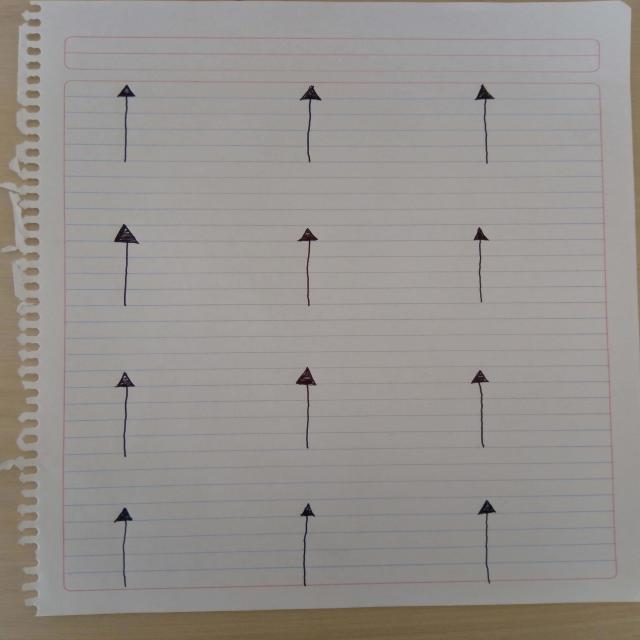arrow_line_up: (467, 501, 514, 585), (282, 367, 323, 461), (106, 372, 144, 464), (106, 510, 150, 589), (295, 226, 330, 312), (112, 224, 144, 314), (288, 500, 320, 590), (469, 83, 500, 167), (472, 370, 502, 456), (296, 88, 329, 166), (109, 79, 137, 163), (473, 223, 494, 310)
